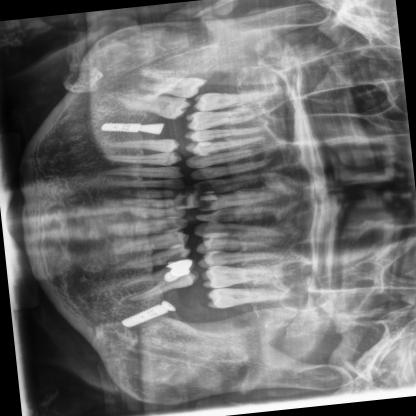ITI: (112, 301, 168, 332), (93, 118, 146, 137)
